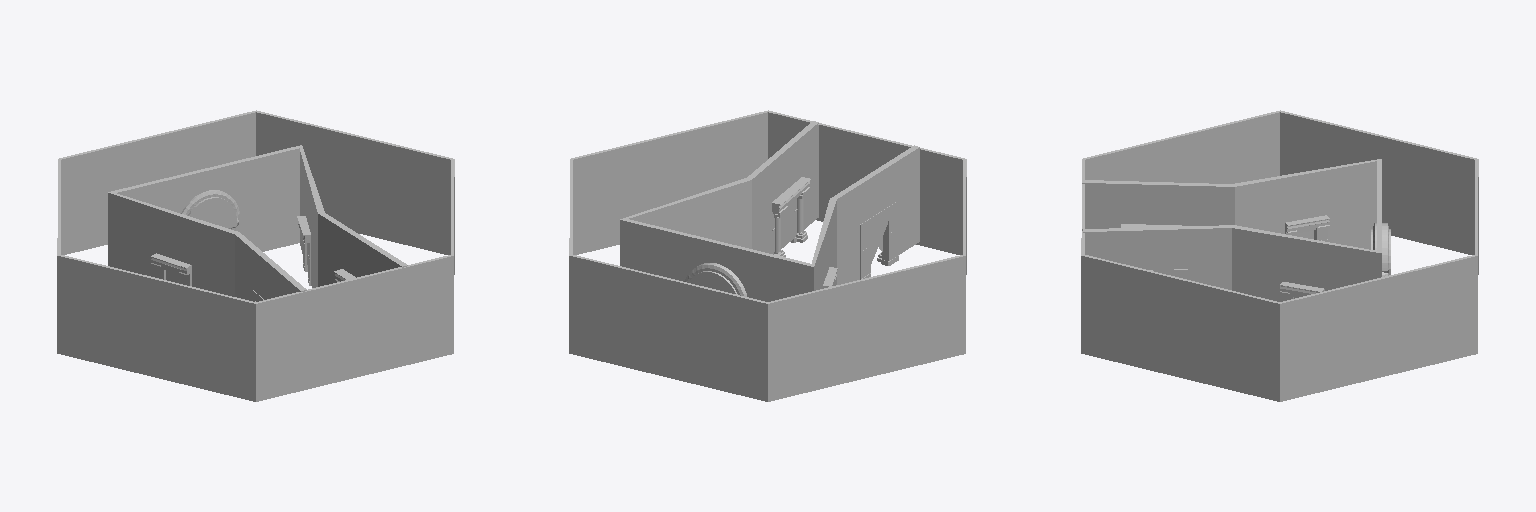
File: Walls.obj
3 renders of one model, left to right at view 1: azimuth 30°, elevation 25°; view 2: azimuth 150°, elevation 25°; view 3: azimuth 270°, elevation 25°, orthographic.
Visible parts, largest first — view 1: ParedesExternas, ParedesInternas, MainEntrance, PuertasTerciarias; view 2: ParedesExternas, ParedesInternas, PuertasSecundarias, MainEntrance; view 3: ParedesExternas, ParedesInternas, PuertasTerciarias, MainEntrance.
Part boxes in pixels (x1,y1,x2,y2): ParedesExternas: (57, 110, 454, 401); ParedesInternas: (108, 145, 407, 300); MainEntrance: (181, 190, 239, 230); PuertasTerciarias: (151, 216, 310, 285); ParedesExternas: (569, 110, 966, 401); ParedesInternas: (620, 121, 919, 301); PuertasSecundarias: (772, 177, 898, 279); MainEntrance: (684, 263, 746, 296); ParedesExternas: (1081, 110, 1478, 401); ParedesInternas: (1082, 159, 1381, 301); PuertasTerciarias: (1280, 215, 1329, 301); MainEntrance: (1371, 223, 1390, 276).
Bounding box in the file's own units: 30.18 × 7.26 × 26.15.